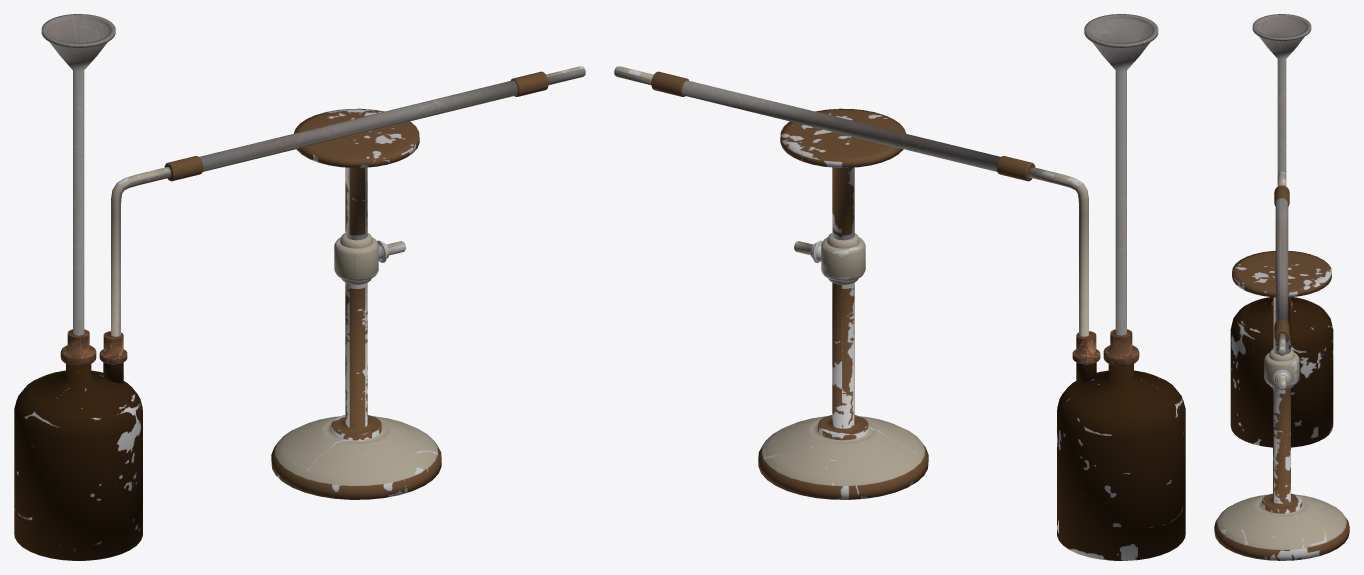
File: eksp2.glb
The picture shows the model from 3 angles, left to right: view 1: azimuth 30°, elevation 25°; view 2: azimuth 150°, elevation 25°; view 3: azimuth 270°, elevation 25°; orthographic projection. The views are drawn at different scales.
Parts seen in each view (by area): view 1: Cylinder.163; view 2: Cylinder.163; view 3: Cylinder.163.
Part boxes in pixels (left/top/right/bottom): Cylinder.163: left=14, top=14, right=585, bottom=560; Cylinder.163: left=614, top=14, right=1185, bottom=560; Cylinder.163: left=1214, top=14, right=1349, bottom=560.
Size of the model in its own units: 0.3889 by 0.3337 by 0.1023.
Materials: 1 (1 with a texture image).
